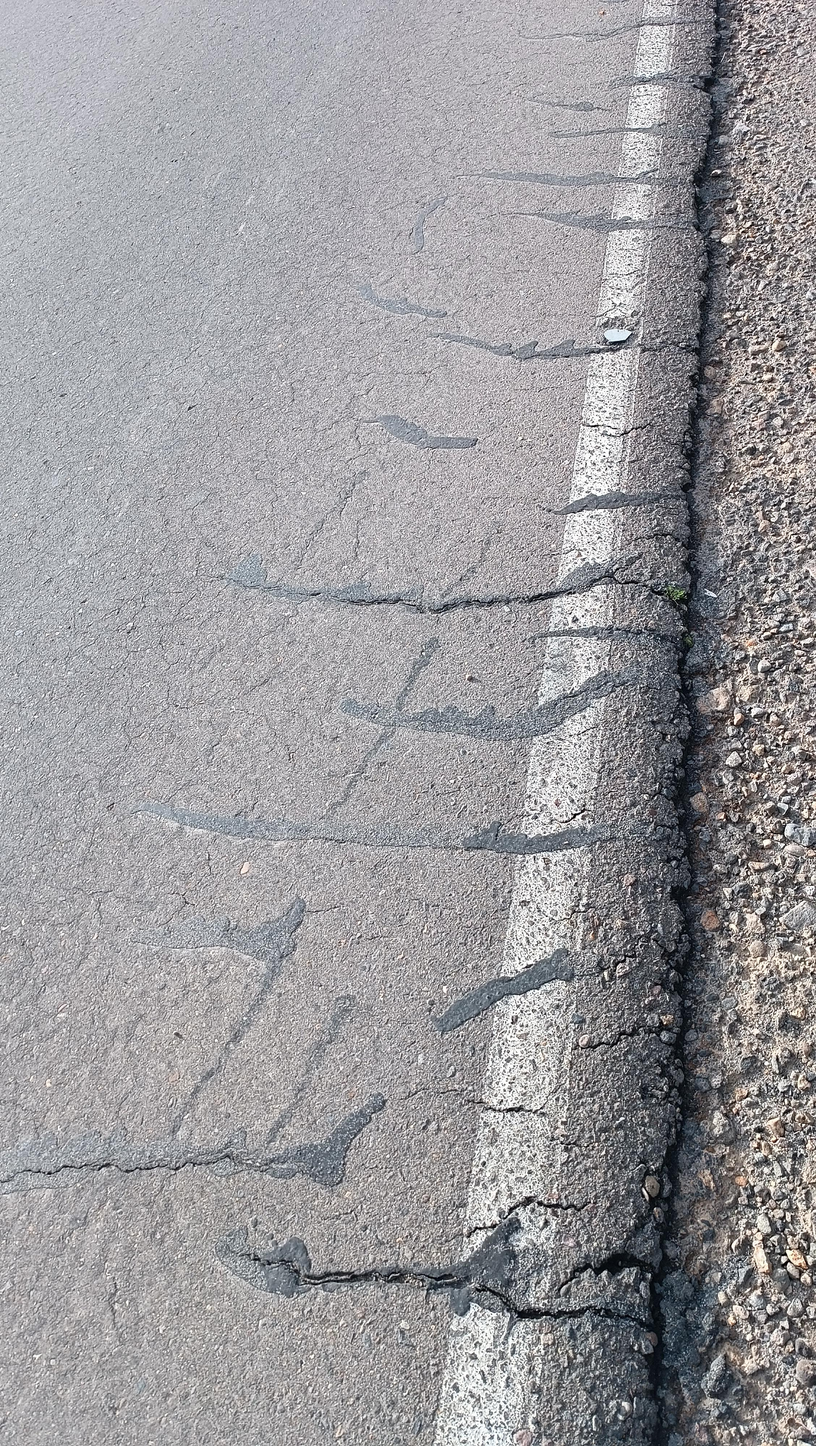GRIETA: (240, 1251, 648, 1332)
PIEL DE COCODRILO: (0, 414, 389, 1279), (207, 119, 512, 446)
